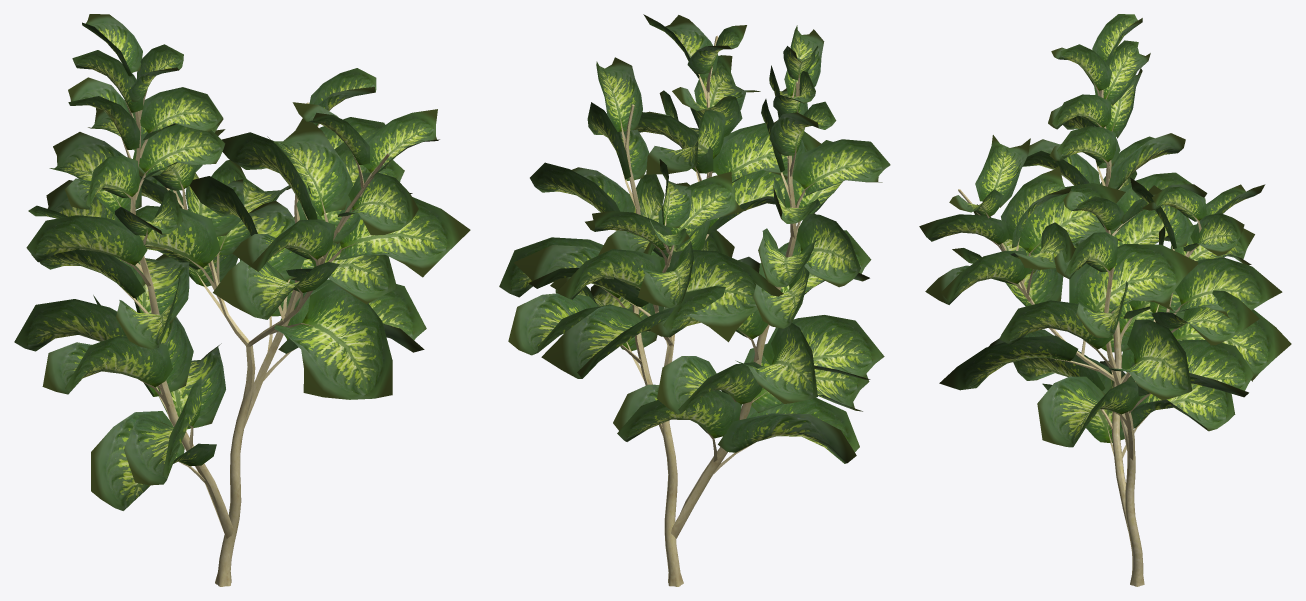
Rendered from tropical_plant_2.glb.
3 views of the same model, side by side, from view 1: azimuth 30°, elevation 25°; view 2: azimuth 150°, elevation 25°; view 3: azimuth 270°, elevation 25° (orthographic). The views are drawn at different scales.
Visible parts, largest first — view 1: Tree_1, Tree_0; view 2: Tree_1, Tree_0; view 3: Tree_1, Tree_0.
Boxes of the visible parts, left/top/right/bottom form: Tree_1: left=14, top=14, right=470, bottom=510; Tree_0: left=116, top=89, right=389, bottom=586; Tree_1: left=499, top=14, right=890, bottom=463; Tree_0: left=601, top=35, right=816, bottom=586; Tree_1: left=919, top=14, right=1291, bottom=447; Tree_0: left=958, top=82, right=1201, bottom=586.
Size of the model in its own units: 0.9524 by 1.49 by 0.9857.
Materials: 2 (2 with a texture image).
